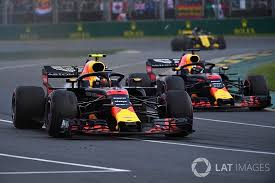FormulaOneCar: (8, 50, 199, 143), (123, 46, 275, 116), (168, 25, 230, 54)
